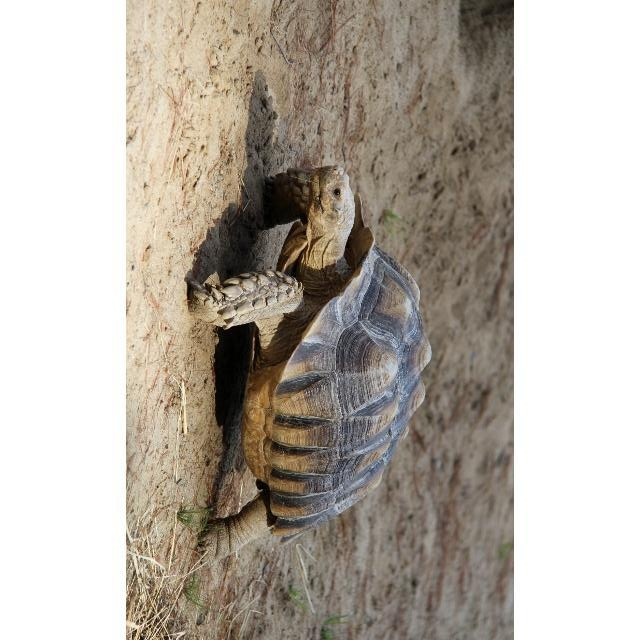turtle: (187, 164, 433, 568)
